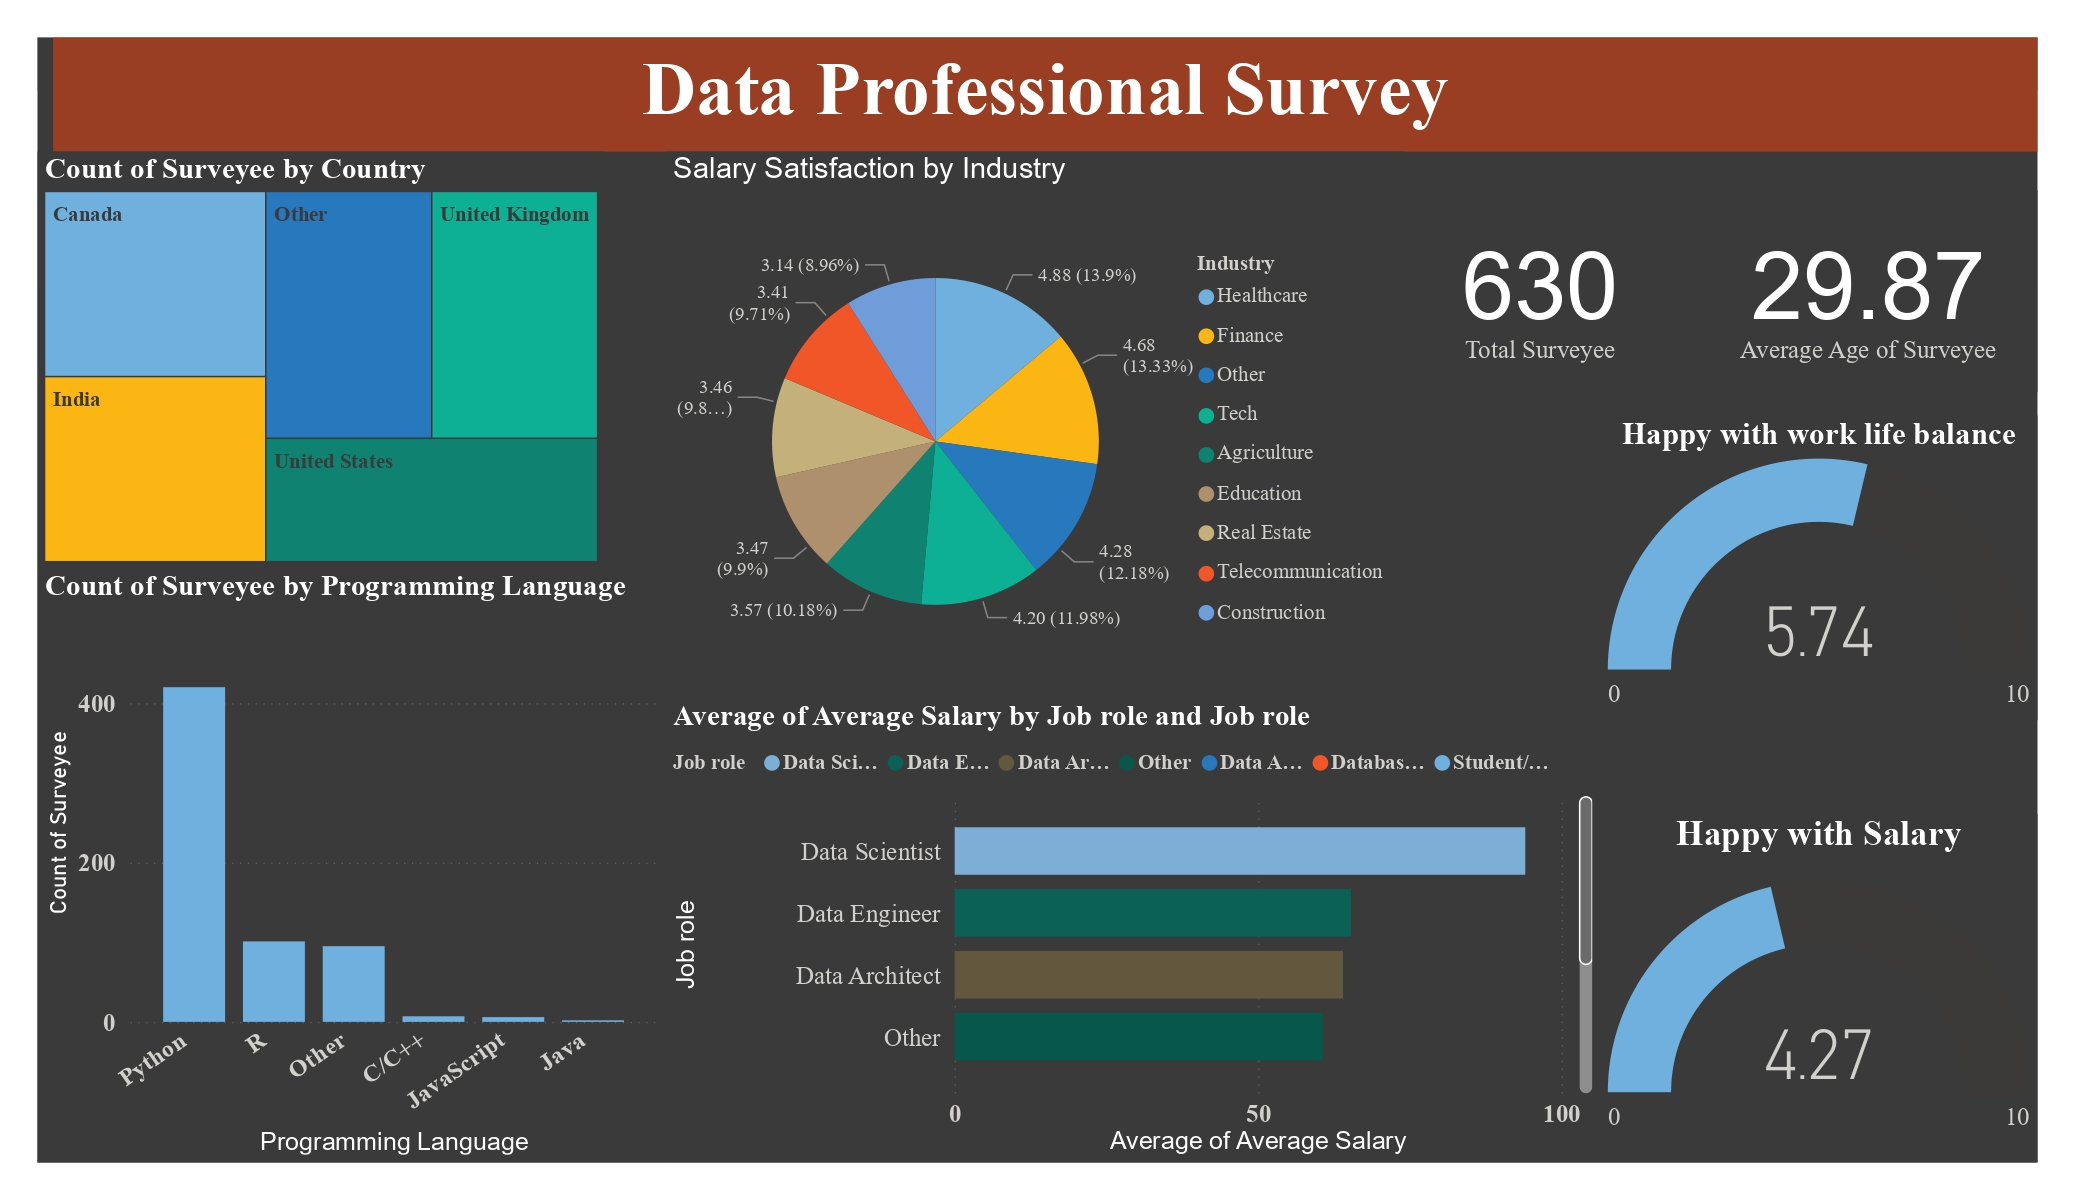

This screenshot's page, from the dashboard's own definition file:
{"tool":"powerbi","page":{"name":"Page 1","canvas":[1280,720],"ordinal":0},"visuals":[{"type":"textbox","box":[10,0,1270,73.3],"z":0},{"type":"card","fields":{"Values":["Count(Data Professional Survey.Unique ID)"]},"box":[875,98.3,173.3,128.3],"z":1000},{"type":"card","fields":{"Values":["Avg(Data Professional Survey.Q10 - Current Age)"]},"box":[1063.3,98.3,216.7,128.3],"z":2000},{"type":"barChart","fields":{"Category":["Data Professional Survey.Q1 - Which Title Best Fits your Current Role?.1"],"Y":["Avg(Data Professional Survey.Average Salary)"],"Series":["Data Professional Survey.Q1 - Which Title Best Fits your Current Role?.1"]},"box":[401.7,423.3,598.3,296.7],"z":3000},{"type":"clusteredColumnChart","fields":{"Category":["Data Professional Survey.Q5 - Favorite Programming Language.1"],"Y":["CountNonNull(Data Professional Survey.Unique ID)"]},"box":[0,340,401.7,380],"z":4000},{"type":"pieChart","fields":{"Category":["Data Professional Survey.Q4 - What Industry do you work in?.1"],"Y":["Avg(Data Professional Survey.Q6 - How Happy are you in your Current Position with the following? (Salary))"]},"box":[401.7,73.3,473.3,350],"z":5000},{"type":"treemap","fields":{"Values":["Count(Data Professional Survey.Q11 - Which Country do you live in?.1)"],"Group":["Data Professional Survey.Q11 - Which Country do you live in?.1"]},"box":[0,73.3,363.3,266.7],"z":6000},{"type":"gauge","title":"Happy with work life balance","fields":{"Y":["Avg(Data Professional Survey.Q6 - How Happy are you in your Current Position with the following? (Work/Life Balance))"],"MinValue":["Min(Data Professional Survey.Q6 - How Happy are you in your Current Position with the following? (Work/Life Balance))"],"MaxValue":["Max(Data Professional Survey.Q6 - How Happy are you in your Current Position with the following? (Work/Life Balance))1"]},"box":[1000,241.7,280,195],"z":7000},{"type":"gauge","title":"Happy with Salary","fields":{"Y":["Avg(Data Professional Survey.Q6 - How Happy are you in your Current Position with the following? (Salary))"],"MinValue":["Min(Data Professional Survey.Q6 - How Happy are you in your Current Position with the following? (Salary))1"],"MaxValue":["Max(Data Professional Survey.Q6 - How Happy are you in your Current Position with the following? (Salary))2"]},"box":[1000,496.7,280,223.3],"z":8000}]}

Visuals, with their boxes in screenshot pixels (x1, y1, x2, y2):
textbox: [x1=53, y1=38, x2=2038, y2=152]
card - Count(Data Professional Survey.Unique ID): [x1=1405, y1=191, x2=1675, y2=392]
card - Avg(Data Professional Survey.Q10 - Current Age): [x1=1699, y1=191, x2=2038, y2=392]
barChart - Data Professional Survey.Q1 - Which Title Best Fits your Current Role?.1 x Avg(Data Professional Survey.Average Salary): [x1=665, y1=699, x2=1600, y2=1162]
clusteredColumnChart - Data Professional Survey.Q5 - Favorite Programming Language.1 x CountNonNull(Data Professional Survey.Unique ID): [x1=38, y1=569, x2=665, y2=1162]
pieChart - Data Professional Survey.Q4 - What Industry do you work in?.1 x Avg(Data Professional Survey.Q6 - How Happy are you in your Current Position with the following? (Salary)): [x1=665, y1=152, x2=1405, y2=699]
treemap - Count(Data Professional Survey.Q11 - Which Country do you live in?.1) x Data Professional Survey.Q11 - Which Country do you live in?.1: [x1=38, y1=152, x2=605, y2=569]
"Happy with work life balance" gauge: [x1=1600, y1=415, x2=2038, y2=720]
"Happy with Salary" gauge: [x1=1600, y1=814, x2=2038, y2=1162]
